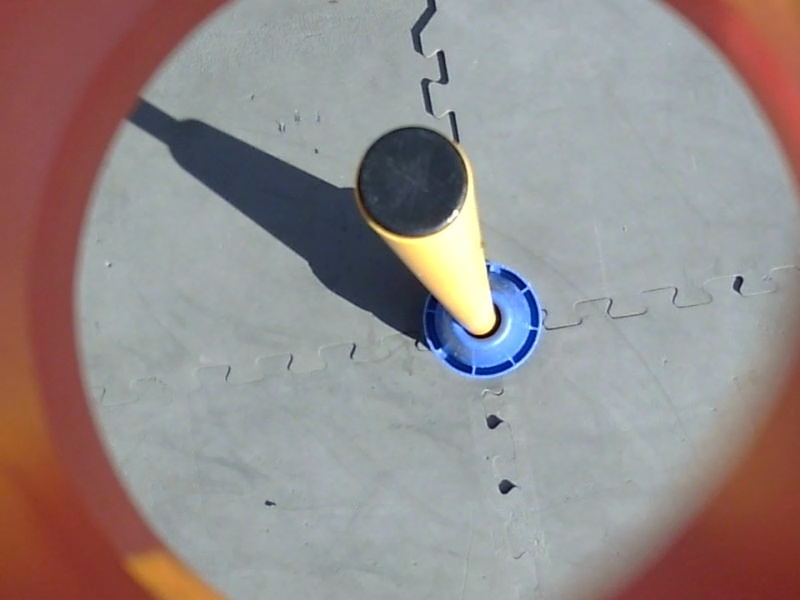tip: (351, 121, 476, 247)
